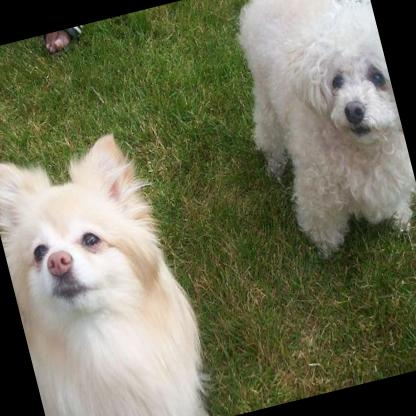toy_poodle: (0, 119, 221, 416), (216, 0, 416, 264)
